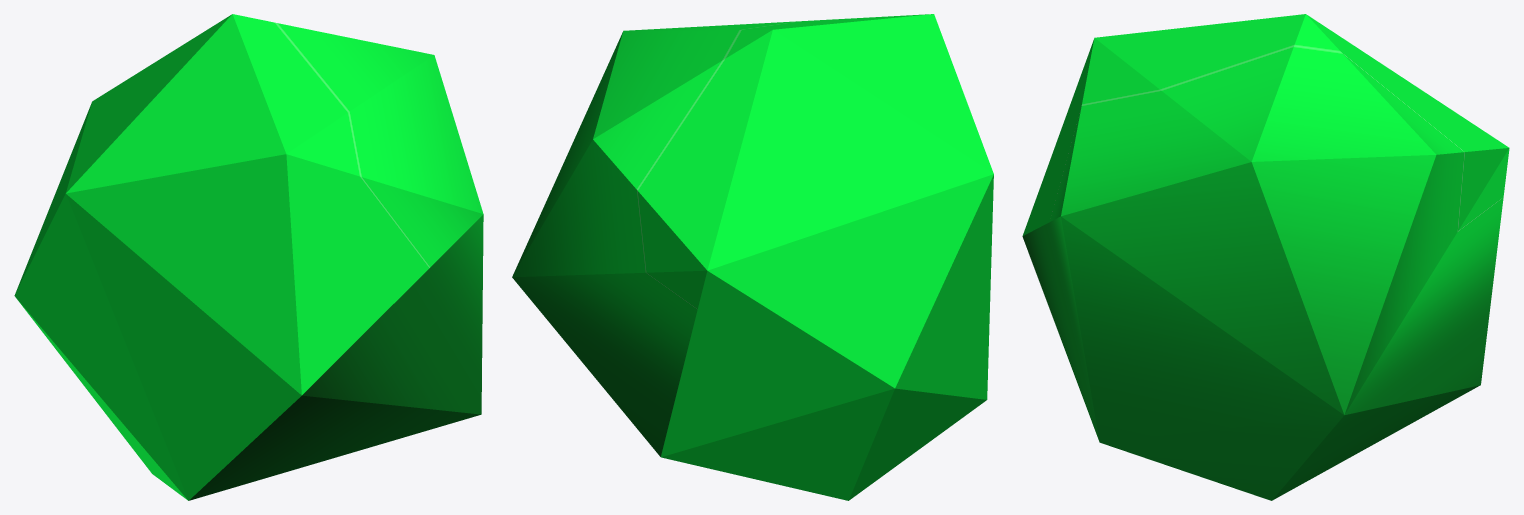
The model's file is BushA.fbx.
The picture shows the model from 3 angles, left to right: view 1: azimuth 30°, elevation 25°; view 2: azimuth 150°, elevation 25°; view 3: azimuth 270°, elevation 25°; orthographic projection. The views are drawn at different scales.
Visible parts, largest first — view 1: BushA; view 2: BushA; view 3: BushA.
Part boxes in pixels (x1,y1,x2,y2): BushA: (14, 14, 483, 500); BushA: (512, 14, 993, 500); BushA: (1022, 14, 1509, 500).
Bounding box in the file's own units: 202 × 203 × 199.
